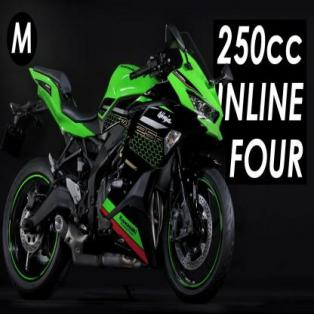Motocicleta: (2, 19, 237, 300)
